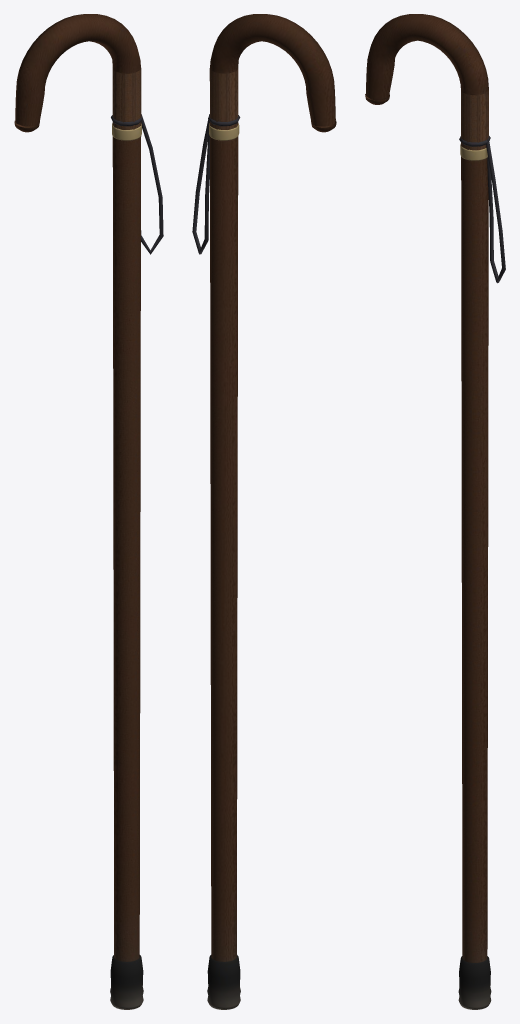
The model's file is HomeCane.fbx.
3 renders of one model, left to right at view 1: azimuth 30°, elevation 25°; view 2: azimuth 150°, elevation 25°; view 3: azimuth 330°, elevation 25°, orthographic. The views are drawn at different scales.
Visible parts, largest first — view 1: HomeCane; view 2: HomeCane; view 3: HomeCane.
Boxes of the visible parts, bbox=[...] form: HomeCane: bbox=[14, 14, 163, 1009]; HomeCane: bbox=[192, 14, 336, 1009]; HomeCane: bbox=[365, 14, 505, 1009].
Size of the model in its own units: 0.1352 by 0.8919 by 0.0272.
